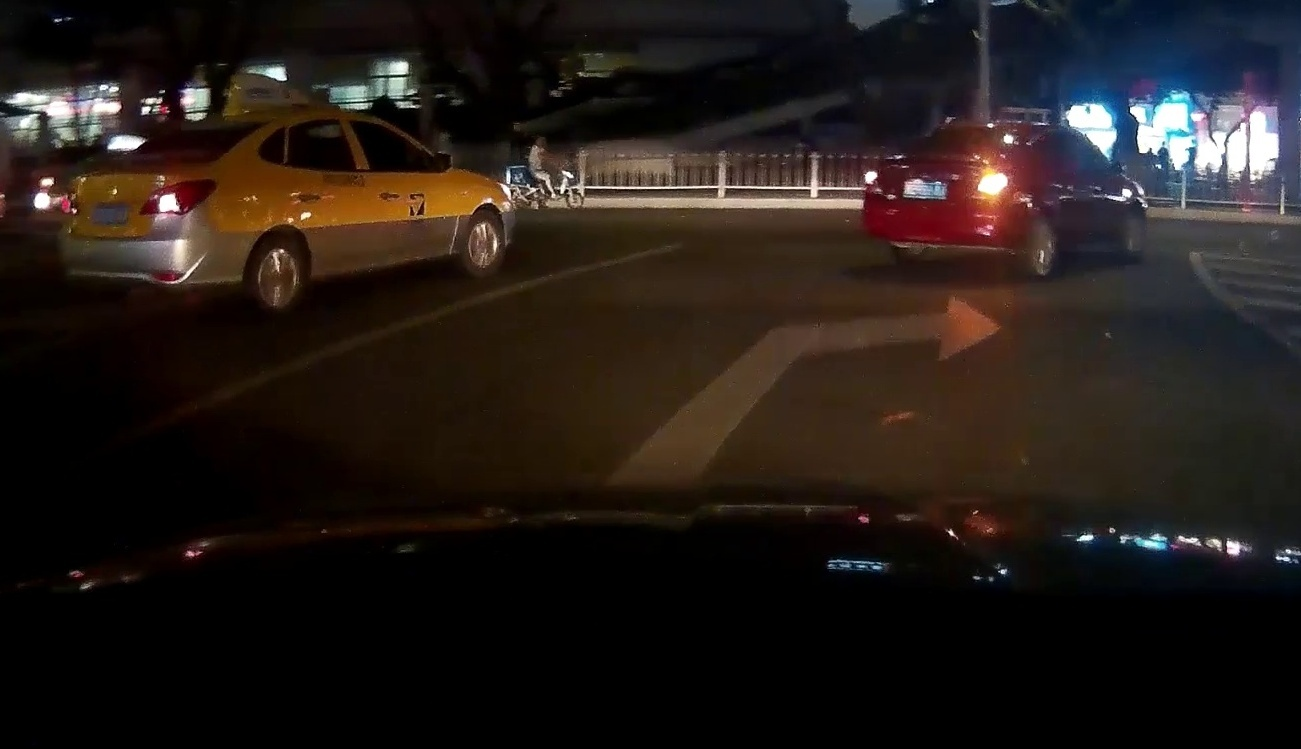L_light: (58, 187, 80, 216), (865, 169, 884, 193)
R_light: (138, 178, 218, 217), (972, 172, 1008, 197)
T_light: (192, 127, 220, 136), (982, 128, 1003, 136)
night-right: (57, 112, 270, 314), (861, 120, 1040, 277)
